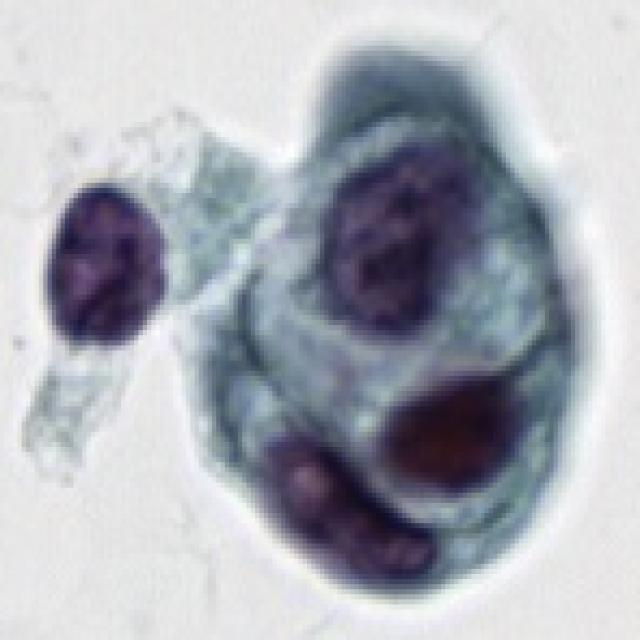nucleus: (266, 102, 525, 373), (232, 413, 455, 613), (359, 346, 553, 523), (49, 182, 173, 349)
